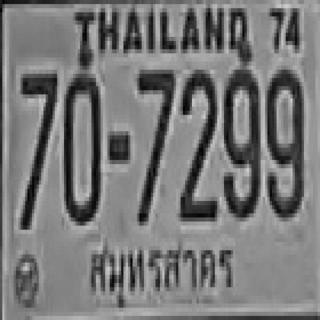N00: (62, 70, 98, 222)
N02: (178, 66, 215, 217)
N07: (135, 66, 174, 222), (17, 70, 56, 226)
N09: (265, 64, 302, 215), (222, 66, 258, 217)
P58: (85, 233, 239, 311)
